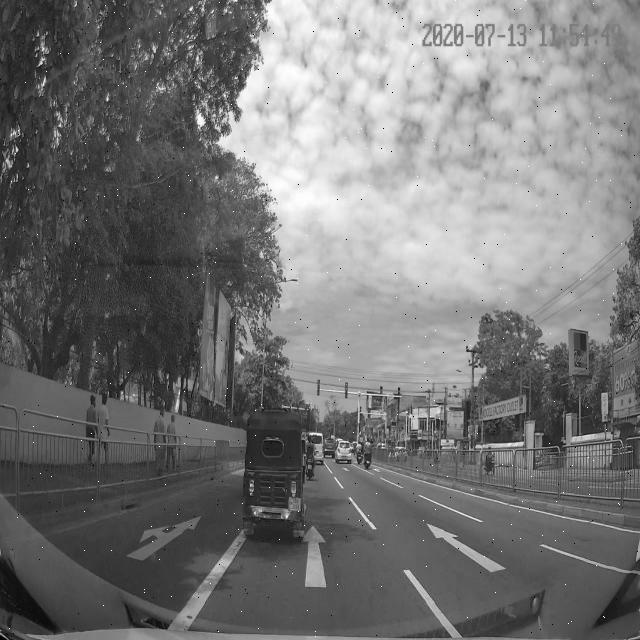forward: (183, 523, 444, 603)
